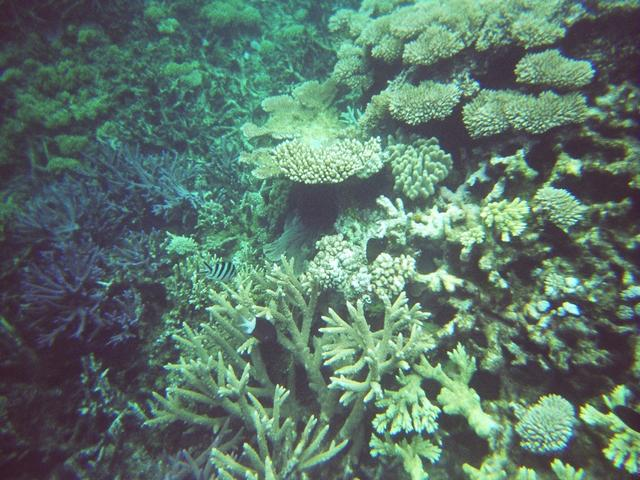fish: (187, 248, 244, 290)
